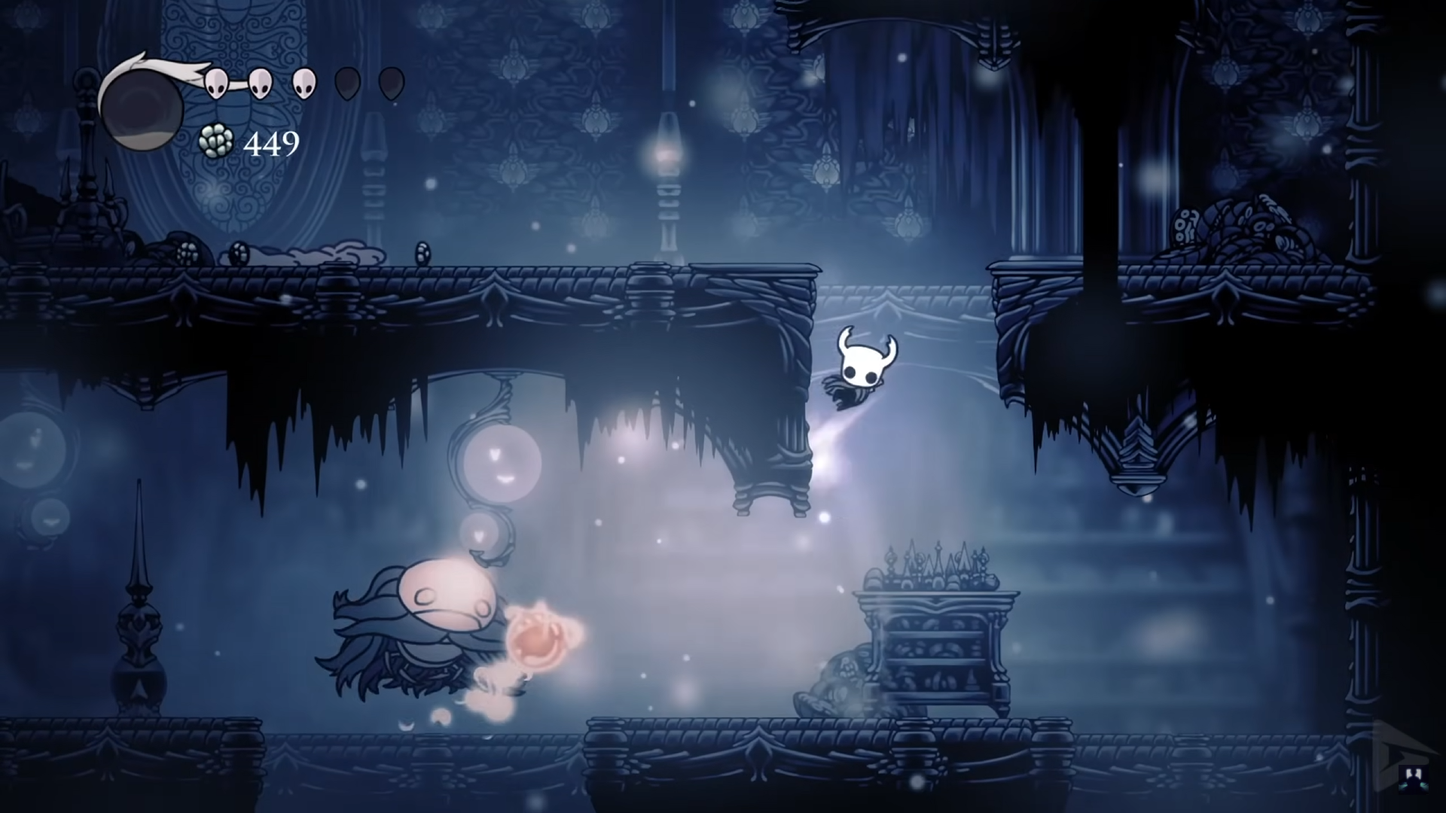HK: (827, 326, 901, 413)
